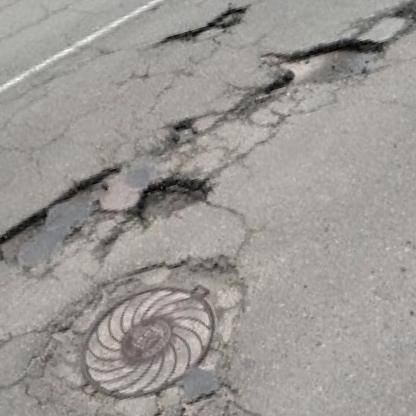pothole: (0, 163, 140, 276), (251, 24, 390, 104), (129, 165, 214, 229), (157, 2, 253, 52), (166, 115, 199, 145)
